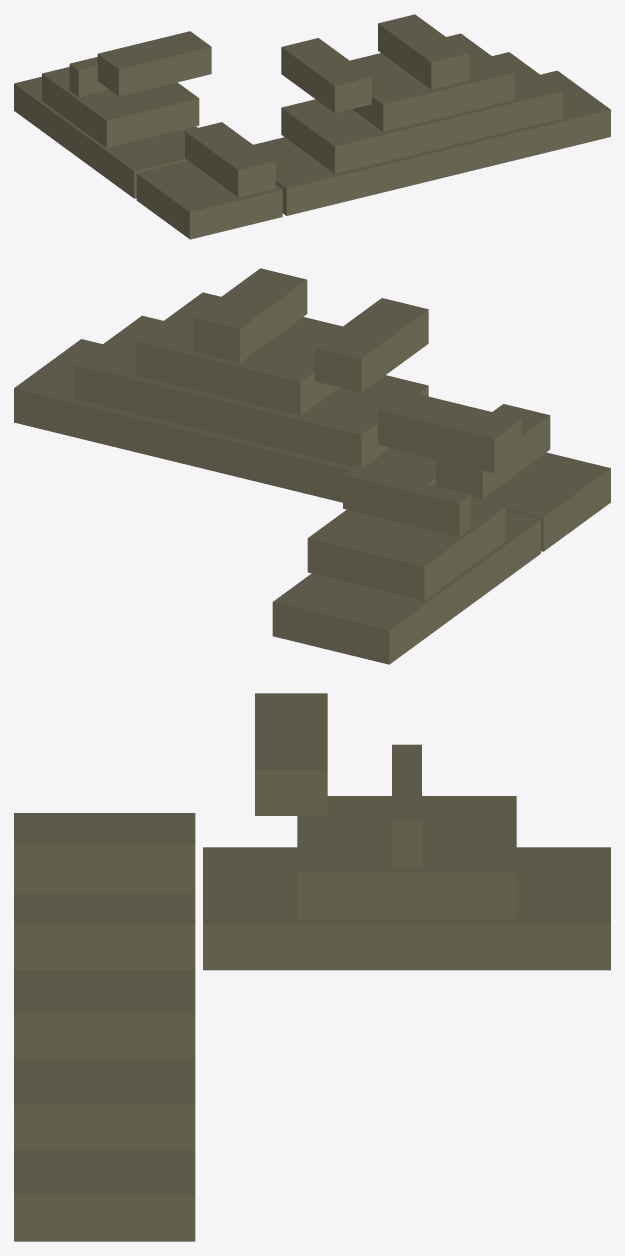
Rendered from SM_PretilEsquinaPaso_v1_Talud_e0_Sano_LOD1.fbx.
3 renders of one model, top to bottom at view 1: azimuth 30°, elevation 25°; view 2: azimuth 150°, elevation 25°; view 3: azimuth 270°, elevation 25°, orthographic. The views are drawn at different scales.
Parts seen in each view (by area): view 1: SM_pretil_azotea_v44_LOD1; view 2: SM_pretil_azotea_v44_LOD1; view 3: SM_pretil_azotea_v44_LOD1.
Part boxes in pixels (x1,y1,x2,y2): SM_pretil_azotea_v44_LOD1: (14, 14, 610, 239); SM_pretil_azotea_v44_LOD1: (14, 268, 610, 664); SM_pretil_azotea_v44_LOD1: (14, 693, 610, 1241).
Size of the model in its own units: 4.36 by 1.17 by 3.16.
